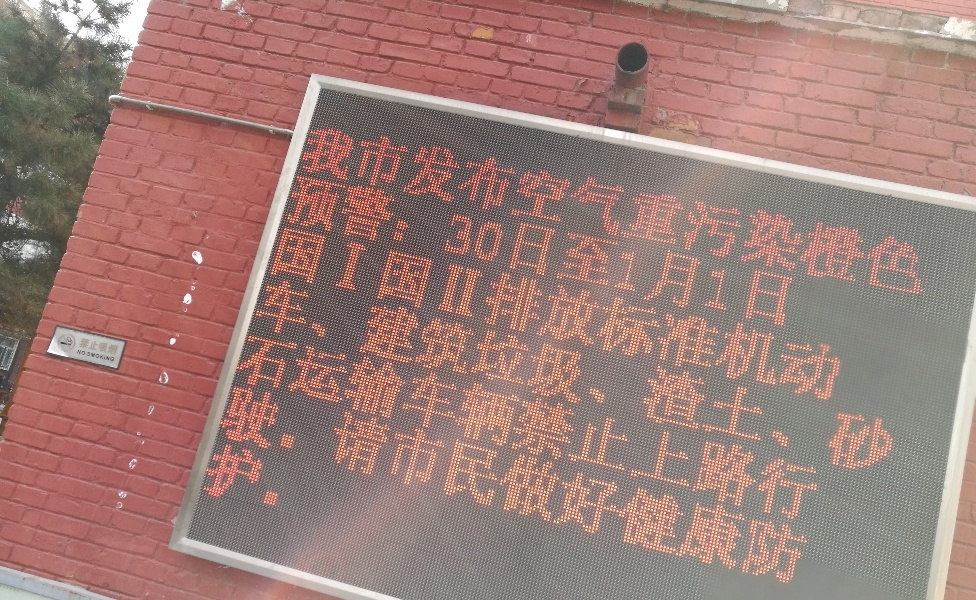text: (241, 383, 256, 590), (257, 383, 272, 590), (273, 383, 288, 590), (289, 383, 304, 590), (305, 383, 320, 590), (321, 383, 336, 590), (337, 383, 352, 590), (353, 383, 368, 590), (369, 383, 384, 590), (385, 383, 400, 590), (401, 383, 416, 590), (417, 383, 432, 590), (433, 383, 448, 590), (449, 383, 464, 590), (465, 383, 480, 590), (481, 383, 496, 590), (497, 383, 512, 590), (513, 383, 528, 590), (529, 383, 544, 590), (545, 383, 560, 590), (561, 383, 576, 590), (577, 383, 592, 590), (593, 383, 608, 590), (609, 383, 624, 590), (625, 383, 640, 590), (641, 383, 656, 590), (657, 383, 672, 590), (673, 383, 688, 590), (689, 383, 704, 590), (705, 383, 720, 590), (721, 383, 736, 590), (737, 383, 752, 590), (753, 383, 768, 590), (769, 383, 784, 590), (785, 383, 800, 590), (273, 273, 288, 479), (289, 273, 304, 479), (305, 273, 320, 479), (321, 273, 336, 479), (337, 273, 352, 479), (353, 273, 368, 479), (369, 273, 384, 479), (385, 273, 400, 479), (401, 273, 416, 479), (417, 273, 432, 479), (433, 273, 448, 479), (449, 273, 464, 479), (465, 273, 480, 479), (481, 273, 496, 479), (497, 273, 512, 479), (513, 273, 528, 479), (529, 273, 544, 479), (545, 273, 560, 479), (561, 273, 576, 479), (577, 273, 592, 479), (593, 273, 608, 479), (609, 273, 624, 479), (625, 273, 640, 479), (641, 273, 656, 479), (657, 273, 672, 479), (673, 273, 688, 479), (689, 273, 704, 479), (705, 273, 720, 479), (721, 273, 736, 479), (737, 273, 752, 479), (753, 273, 768, 479), (769, 273, 784, 479), (785, 273, 800, 479), (801, 273, 816, 479), (817, 273, 832, 479), (833, 273, 848, 479), (849, 273, 864, 479), (865, 273, 880, 479), (881, 273, 896, 479), (257, 329, 272, 525), (273, 329, 288, 525), (289, 329, 304, 525), (305, 329, 320, 525), (321, 329, 336, 525), (337, 329, 352, 525), (353, 329, 368, 525), (369, 329, 384, 525), (385, 329, 400, 525), (401, 329, 416, 525), (417, 329, 432, 525), (433, 329, 448, 525), (449, 329, 464, 525), (465, 329, 480, 525), (481, 329, 496, 525), (497, 329, 512, 525), (513, 329, 528, 525), (529, 329, 544, 525), (545, 329, 560, 525), (561, 329, 576, 525), (577, 329, 592, 525), (593, 329, 608, 525), (609, 329, 624, 525), (625, 329, 640, 525), (641, 329, 656, 525), (657, 329, 672, 525), (673, 329, 688, 525), (689, 329, 704, 525), (705, 329, 720, 525), (721, 329, 736, 525), (737, 329, 752, 525), (753, 329, 768, 525), (769, 329, 784, 525), (785, 329, 800, 525), (801, 329, 816, 525), (321, 121, 336, 300), (337, 121, 352, 300), (353, 121, 368, 300), (369, 121, 384, 300), (385, 121, 400, 300), (401, 121, 416, 300), (417, 121, 432, 300), (433, 121, 448, 300), (449, 121, 464, 300), (465, 121, 480, 300), (481, 121, 496, 300), (497, 121, 512, 300), (513, 121, 528, 300), (529, 121, 544, 300), (545, 121, 560, 300), (561, 121, 576, 300), (577, 121, 592, 300), (593, 121, 608, 300), (609, 121, 624, 300), (625, 121, 640, 300), (641, 121, 656, 300), (657, 121, 672, 300), (673, 121, 688, 300), (689, 121, 704, 300), (705, 121, 720, 300), (721, 121, 736, 300), (737, 121, 752, 300), (753, 121, 768, 300), (769, 121, 784, 300), (785, 121, 800, 300), (801, 121, 816, 300), (817, 121, 832, 300), (833, 121, 848, 300), (849, 121, 864, 300), (865, 121, 880, 300), (881, 121, 896, 300), (897, 121, 912, 300), (913, 121, 928, 300), (289, 225, 304, 403), (305, 225, 320, 403), (321, 225, 336, 403), (337, 225, 352, 403), (353, 225, 368, 403), (369, 225, 384, 403), (385, 225, 400, 403), (401, 225, 416, 403), (417, 225, 432, 403), (433, 225, 448, 403), (449, 225, 464, 403), (465, 225, 480, 403), (481, 225, 496, 403), (497, 225, 512, 403), (513, 225, 528, 403), (529, 225, 544, 403), (545, 225, 560, 403), (561, 225, 576, 403), (577, 225, 592, 403), (593, 225, 608, 403), (609, 225, 624, 403), (625, 225, 640, 403), (641, 225, 656, 403), (657, 225, 672, 403), (673, 225, 688, 403), (689, 225, 704, 403), (705, 225, 720, 403), (721, 225, 736, 403), (737, 225, 752, 403), (753, 225, 768, 403), (769, 225, 784, 403), (785, 225, 800, 403), (801, 225, 816, 403), (817, 225, 832, 403), (801, 383, 813, 590), (833, 225, 846, 403), (305, 173, 320, 326), (321, 173, 336, 326), (337, 173, 352, 326), (353, 173, 368, 326), (369, 173, 384, 326), (385, 173, 400, 326), (401, 173, 416, 326), (417, 173, 432, 326), (433, 173, 448, 326), (449, 173, 464, 326), (465, 173, 480, 326), (481, 173, 496, 326), (497, 173, 512, 326), (513, 173, 528, 326), (529, 173, 544, 326), (545, 173, 560, 326), (561, 173, 576, 326), (577, 173, 592, 326), (593, 173, 608, 326), (609, 173, 624, 326), (625, 173, 640, 326), (641, 173, 656, 326), (657, 173, 672, 326), (673, 173, 688, 326), (689, 173, 704, 326), (705, 173, 720, 326), (721, 173, 736, 326), (737, 173, 752, 326), (753, 173, 768, 326), (769, 173, 784, 326), (309, 121, 320, 300), (817, 329, 827, 525), (263, 273, 272, 479), (247, 329, 256, 525), (232, 383, 240, 590), (929, 121, 938, 300), (785, 173, 795, 326), (295, 173, 304, 326), (225, 440, 240, 515), (241, 440, 256, 515), (257, 440, 272, 515), (273, 440, 288, 515), (282, 225, 288, 403), (897, 273, 902, 479), (216, 440, 224, 515), (81, 337, 96, 357), (97, 337, 112, 357), (289, 440, 292, 515), (97, 352, 112, 362), (113, 337, 119, 357), (88, 352, 96, 362), (81, 350, 86, 356), (113, 352, 115, 362), (78, 350, 80, 356)
